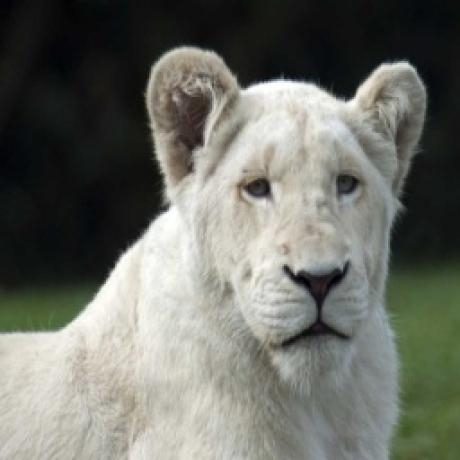Lion: (0, 40, 431, 460)
